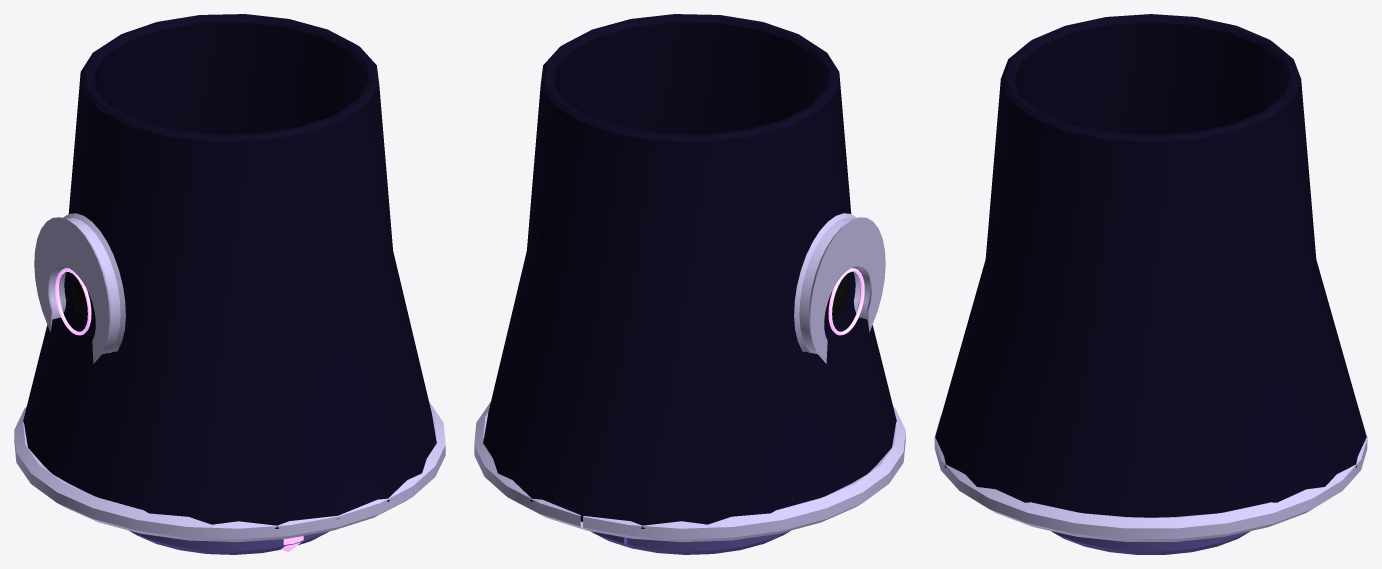
The model's file is asc_voidweaver_gloves_R.glb.
3 renders of one model, left to right at view 1: azimuth 30°, elevation 25°; view 2: azimuth 150°, elevation 25°; view 3: azimuth 270°, elevation 25°, orthographic.
Parts seen in each view (by area): view 1: asc_voidweaver_gloves; view 2: asc_voidweaver_gloves; view 3: asc_voidweaver_gloves.
Part boxes in pixels (left/top/right/bottom): asc_voidweaver_gloves: left=14, top=14, right=445, bottom=554; asc_voidweaver_gloves: left=474, top=14, right=905, bottom=554; asc_voidweaver_gloves: left=934, top=14, right=1367, bottom=554.
Bounding box in the file's own units: 0.221 × 0.2464 × 0.2227.
